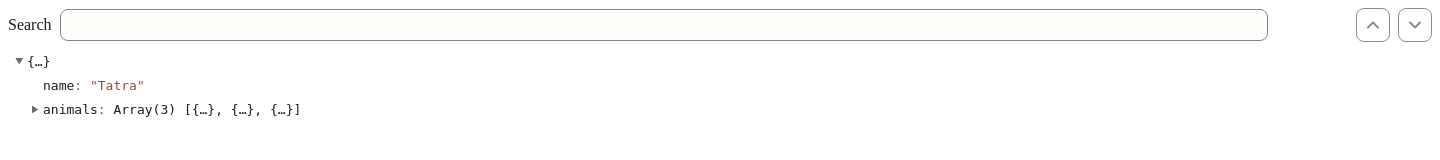
Test: ObjectInspector contract › search › says which row matched when stepping, and ties the status to the field
The width and height of the screenshot is (1440, 160).
Later steps or results of the test are not shown.
Type "marmot" into the search field. click: (664, 25)
box: [60,9,1268,41]
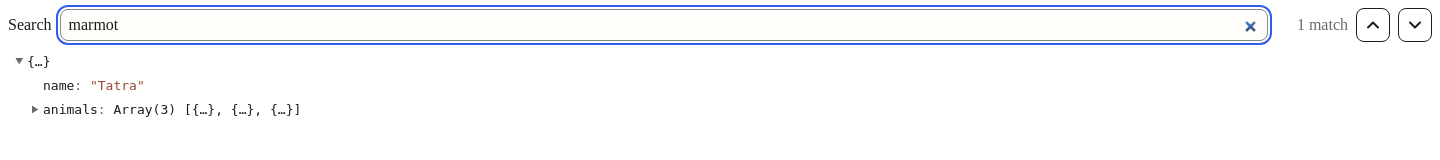
Now the text "1 match" is shown, box [1297,16,1348,33]
